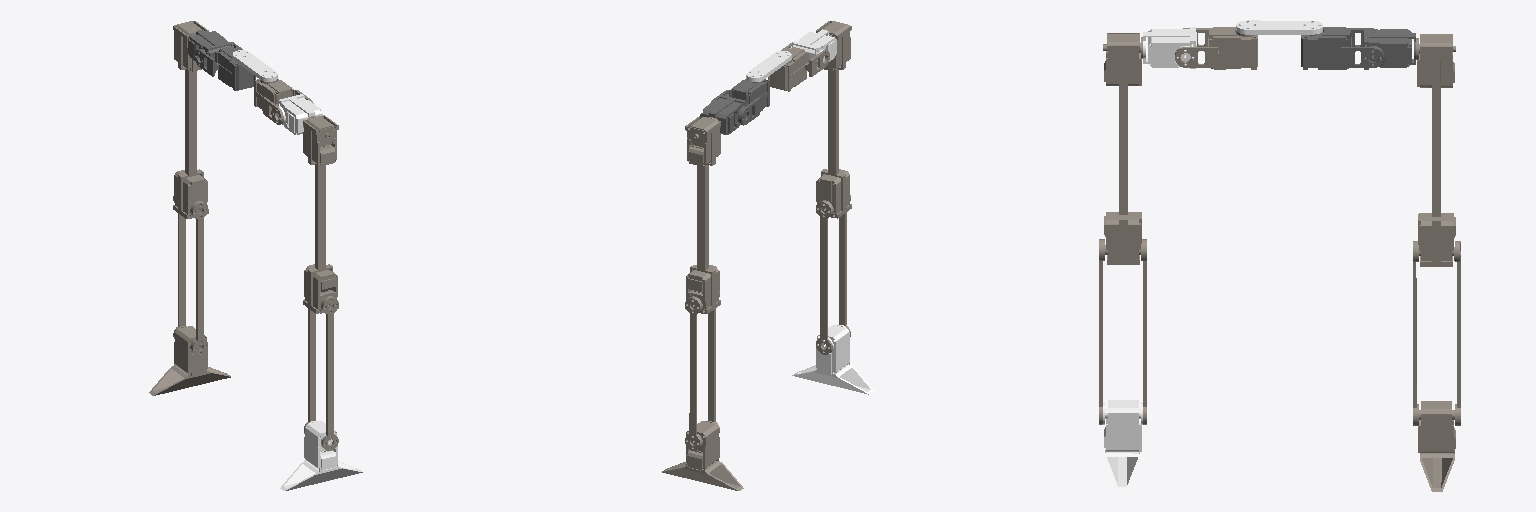
robot.urdf — Assem2:
<?xml version="1.0" encoding="utf-8"?>
<!-- This URDF was automatically created by SolidWorks to URDF Exporter! Originally created by Stephen Brawner (brawner@gmail.com) 
     Commit Version: 1.6.0-4-g7f85cfe  Build Version: 1.6.7995.38578
     For more information, please see http://wiki.ros.org/sw_urdf_exporter -->
<robot
  name="Assem2">
  <link
    name="base_link">
    <inertial>
      <origin
        xyz="8.6584E-05 -3.7645E-05 -0.0025"
        rpy="0 0 0" />
      <mass
        value="0.35" />
      <inertia
        ixx="4.2241E-06"
        ixy="-1.4747E-08"
        ixz="-7.7569E-24"
        iyy="3.0679E-07"
        iyz="-1.0937E-22"
        izz="4.4933E-06" />
    </inertial>
    <visual>
      <origin
        xyz="0 0 0"
        rpy="0 0 0" />
      <geometry>
        <mesh
          filename="package://Assem2/meshes/base_link.STL" />
      </geometry>
      <material
        name="">
        <color
          rgba="1 1 1 1" />
      </material>
    </visual>
    <collision>
      <origin
        xyz="0 0 0"
        rpy="0 0 0" />
      <geometry>
        <mesh
          filename="package://Assem2/meshes/base_link.STL" />
      </geometry>
    </collision>
  </link>
  <link
    name="hip_one_right">
    <inertial>
      <origin
        xyz="-5.4391E-05 -0.01443 0.016376"
        rpy="0 0 0" />
      <mass
        value="0.058249" />
      <inertia
        ixx="1.385E-05"
        ixy="-1.9707E-08"
        ixz="1.8376E-11"
        iyy="8.6168E-06"
        iyz="1.3144E-08"
        izz="1.436E-05" />
    </inertial>
    <visual>
      <origin
        xyz="0 0 0"
        rpy="0 0 0" />
      <geometry>
        <mesh
          filename="package://Assem2/meshes/hip_one_right.STL" />
      </geometry>
      <material
        name="">
        <color
          rgba="0.65098 0.61961 0.58824 1" />
      </material>
    </visual>
    <collision>
      <origin
        xyz="0 0 0"
        rpy="0 0 0" />
      <geometry>
        <mesh
          filename="package://Assem2/meshes/hip_one_right.STL" />
      </geometry>
    </collision>
  </link>
  <joint
    name="hip_one_right_joint"
    type="revolute">
    <origin
      xyz="-2.63517899616984E-05 -0.030037432836896 -0.0379"
      rpy="0 0 0" />
    <parent
      link="base_link" />
    <child
      link="hip_one_right" />
    <axis
      xyz="0 0 1" />
    <limit
      lower="-0.52"
      upper="0.52"
      effort="2.0"
      velocity="6.28" />
    <dynamics
      damping="0.1"
      friction="0.05" />
  </joint>
  <link
    name="hip_two_right">
    <inertial>
      <origin
        xyz="-0.010854 2.2524E-05 -0.0097718"
        rpy="0 0 0" />
      <mass
        value="0.060232" />
      <inertia
        ixx="6.8224E-06"
        ixy="4.4143E-12"
        ixz="1.4463E-08"
        iyy="1.261E-05"
        iyz="3.1105E-11"
        izz="1.1599E-05" />
    </inertial>
    <visual>
      <origin
        xyz="0 0 0"
        rpy="0 0 0" />
      <geometry>
        <mesh
          filename="package://Assem2/meshes/hip_two_right.STL" />
      </geometry>
      <material
        name="">
        <color
          rgba="1 1 1 1" />
      </material>
    </visual>
    <collision>
      <origin
        xyz="0 0 0"
        rpy="0 0 0" />
      <geometry>
        <mesh
          filename="package://Assem2/meshes/hip_two_right.STL" />
      </geometry>
    </collision>
  </link>
  <joint
    name="hip_two_right_joint"
    type="revolute">
    <origin
      xyz="0.0100279184909625 -0.0563554871982363 0.0145"
      rpy="1.5707963267949 0 1.56703177648003" />
    <parent
      link="hip_one_right" />
    <child
      link="hip_two_right" />
    <axis
      xyz="0 0 -1" />
    <limit
      lower="-1.57"
      upper="1.57"
      effort="2.0"
      velocity="6.28" />
    <dynamics
      damping="0.1"
      friction="0.05" />
  </joint>
  <link
    name="hip_leg_right">
    <inertial>
      <origin
        xyz="0.00042769 0.097419 0.015564"
        rpy="0 0 0" />
      <mass
        value="0.11566" />
      <inertia
        ixx="8.6744E-05"
        ixy="-8.8285E-12"
        ixz="3.7058E-21"
        iyy="1.3314E-05"
        iyz="-8.0774E-21"
        izz="8.4348E-05" />
    </inertial>
    <visual>
      <origin
        xyz="0 0 0"
        rpy="0 0 0" />
      <geometry>
        <mesh
          filename="package://Assem2/meshes/hip_leg_right.STL" />
      </geometry>
      <material
        name="">
        <color
          rgba="0.65098 0.61961 0.58824 1" />
      </material>
    </visual>
    <collision>
      <origin
        xyz="0 0 0"
        rpy="0 0 0" />
      <geometry>
        <mesh
          filename="package://Assem2/meshes/hip_leg_right.STL" />
      </geometry>
    </collision>
  </link>
  <joint
    name="hip_leg_right_joint"
    type="revolute">
    <origin
      xyz="-0.0719000000000001 0.000449999999972452 -0.00969999999999992"
      rpy="-2.54430062595969 -1.57079631189374 -0.597101845005674" />
    <parent
      link="hip_two_right" />
    <child
      link="hip_leg_right" />
    <axis
      xyz="0 0 1" />
    <limit
      lower="-2.26"
      upper="2.26"
      effort="2.0"
      velocity="6.28" />
    <dynamics
      damping="0.1"
      friction="0.05" />
  </joint>
  <link
    name="knee_leg_right">
    <inertial>
      <origin
        xyz="-6.3708E-16 -0.042833 0.01415"
        rpy="0 0 0" />
      <mass
        value="0.023696" />
      <inertia
        ixx="4.0175E-05"
        ixy="-4.4801E-20"
        ixz="-9.2644E-23"
        iyy="4.5779E-07"
        iyz="-5.3725E-21"
        izz="4.0592E-05" />
    </inertial>
    <visual>
      <origin
        xyz="0 0 0"
        rpy="0 0 0" />
      <geometry>
        <mesh
          filename="package://Assem2/meshes/knee_leg_right.STL" />
      </geometry>
      <material
        name="">
        <color
          rgba="0.65098 0.61961 0.58824 1" />
      </material>
    </visual>
    <collision>
      <origin
        xyz="0 0 0"
        rpy="0 0 0" />
      <geometry>
        <mesh
          filename="package://Assem2/meshes/knee_leg_right.STL" />
      </geometry>
    </collision>
  </link>
  <joint
    name="knee_leg_right_joint"
    type="revolute">
    <origin
      xyz="0.000900000000000167 0.205 0"
      rpy="0 0 3.14159265358979" />
    <parent
      link="hip_leg_right" />
    <child
      link="knee_leg_right" />
    <axis
      xyz="0 0 1" />
    <limit
      lower="-2.26"
      upper="2.26"
      effort="2.0"
      velocity="6.28" />
    <dynamics
      damping="0.1"
      friction="0.05" />
  </joint>
  <link
    name="ankle_leg_right">
    <inertial>
      <origin
        xyz="6.3956E-05 0.016195 0.014485"
        rpy="0 0 0" />
      <mass
        value="0.068105" />
      <inertia
        ixx="1.2837E-05"
        ixy="-4.4143E-12"
        ixz="3.1105E-11"
        iyy="1.1689E-05"
        iyz="-1.4463E-08"
        izz="1.5279E-05" />
    </inertial>
    <visual>
      <origin
        xyz="0 0 0"
        rpy="0 0 0" />
      <geometry>
        <mesh
          filename="package://Assem2/meshes/ankle_leg_right.STL" />
      </geometry>
      <material
        name="">
        <color
          rgba="1 1 1 1" />
      </material>
    </visual>
    <collision>
      <origin
        xyz="0 0 0"
        rpy="0 0 0" />
      <geometry>
        <mesh
          filename="package://Assem2/meshes/ankle_leg_right.STL" />
      </geometry>
    </collision>
  </link>
  <joint
    name="ankle_leg_right_joint"
    type="revolute">
    <origin
      xyz="0 -0.166 0"
      rpy="0 0 -3.14159265358979" />
    <parent
      link="knee_leg_right" />
    <child
      link="ankle_leg_right" />
    <axis
      xyz="0 0 1" />
    <limit
      lower="-0.9"
      upper="1.2"
      effort="2.0"
      velocity="6.28" />
    <dynamics
      damping="0.1"
      friction="0.05" />
  </joint>
  <link
    name="hip_one_left">
    <inertial>
      <origin
        xyz="6.033E-05 0.016005 0.014731"
        rpy="0 0 0" />
      <mass
        value="0.052515" />
      <inertia
        ixx="1.3701E-05"
        ixy="-1.9707E-08"
        ixz="-1.8376E-11"
        iyy="8.4675E-06"
        iyz="-1.3144E-08"
        izz="1.4073E-05" />
    </inertial>
    <visual>
      <origin
        xyz="0 0 0"
        rpy="0 0 0" />
      <geometry>
        <mesh
          filename="package://Assem2/meshes/hip_one_left.STL" />
      </geometry>
      <material
        name="">
        <color
          rgba="0.49804 0.49804 0.49804 1" />
      </material>
    </visual>
    <collision>
      <origin
        xyz="0 0 0"
        rpy="0 0 0" />
      <geometry>
        <mesh
          filename="package://Assem2/meshes/hip_one_left.STL" />
      </geometry>
    </collision>
  </link>
  <joint
    name="hip_one_left_joint"
    type="revolute">
    <origin
      xyz="0.000199520695424395 0.0299621420084339 -0.0379"
      rpy="0 0 0" />
    <parent
      link="base_link" />
    <child
      link="hip_one_left" />
    <axis
      xyz="0 0 1" />
    <limit
      lower="-0.52"
      upper="0.52"
      effort="2.0"
      velocity="6.28" />
    <dynamics
      damping="0.1"
      friction="0.05" />
  </joint>
  <link
    name="hip_two_left">
    <inertial>
      <origin
        xyz="0.010854 -2.2524E-05 -0.0097917"
        rpy="0 0 0" />
      <mass
        value="0.060232" />
      <inertia
        ixx="6.8224E-06"
        ixy="4.4143E-12"
        ixz="-1.4463E-08"
        iyy="1.261E-05"
        iyz="-3.1105E-11"
        izz="1.1599E-05" />
    </inertial>
    <visual>
      <origin
        xyz="0 0 0"
        rpy="0 0 0" />
      <geometry>
        <mesh
          filename="package://Assem2/meshes/hip_two_left.STL" />
      </geometry>
      <material
        name="">
        <color
          rgba="0.49804 0.49804 0.49804 1" />
      </material>
    </visual>
    <collision>
      <origin
        xyz="0 0 0"
        rpy="0 0 0" />
      <geometry>
        <mesh
          filename="package://Assem2/meshes/hip_two_left.STL" />
      </geometry>
    </collision>
  </link>
  <joint
    name="hip_two_left_joint"
    type="revolute">
    <origin
      xyz="0.010472 0.056278 0.0145"
      rpy="1.5708 0 1.567" />
    <parent
      link="hip_one_left" />
    <child
      link="hip_two_left" />
    <axis
      xyz="0 0 -1" />
    <limit
      lower="-1.57"
      upper="1.57"
      effort="2.0"
      velocity="6.28" />
    <dynamics
      damping="0.1"
      friction="0.05" />
  </joint>
  <link
    name="hip_leg_left">
    <inertial>
      <origin
        xyz="0.00042769 -0.097419 0.015342"
        rpy="0 0 0" />
      <mass
        value="0.11566" />
      <inertia
        ixx="8.6744E-05"
        ixy="-8.8285E-12"
        ixz="3.2293E-21"
        iyy="1.3314E-05"
        iyz="2.1407E-20"
        izz="8.4348E-05" />
    </inertial>
    <visual>
      <origin
        xyz="0 0 0"
        rpy="0 0 0" />
      <geometry>
        <mesh
          filename="package://Assem2/meshes/hip_leg_left.STL" />
      </geometry>
      <material
        name="">
        <color
          rgba="0.65098 0.61961 0.58824 1" />
      </material>
    </visual>
    <collision>
      <origin
        xyz="0 0 0"
        rpy="0 0 0" />
      <geometry>
        <mesh
          filename="package://Assem2/meshes/hip_leg_left.STL" />
      </geometry>
    </collision>
  </link>
  <joint
    name="hip_leg_left_joint"
    type="revolute">
    <origin
      xyz="0.0719 -0.00045 -0.0101"
      rpy="1.5301 -1.5708 -1.5298" />
    <parent
      link="hip_two_left" />
    <child
      link="hip_leg_left" />
    <axis
      xyz="0 0 1" />
    <limit
      lower="-2.26"
      upper="2.26"
      effort="2.0"
      velocity="6.28" />
    <dynamics
      damping="0.1"
      friction="0.05" />
  </joint>
  <link
    name="knee_leg_left">
    <inertial>
      <origin
        xyz="-3.6126E-16 -0.042833 0.01415"
        rpy="0 0 0" />
      <mass
        value="0.023696" />
      <inertia
        ixx="4.0175E-05"
        ixy="-1.5145E-20"
        ixz="-5.8234E-22"
        iyy="4.5779E-07"
        iyz="-8.5198E-20"
        izz="4.0592E-05" />
    </inertial>
    <visual>
      <origin
        xyz="0 0 0"
        rpy="0 0 0" />
      <geometry>
        <mesh
          filename="package://Assem2/meshes/knee_leg_left.STL" />
      </geometry>
      <material
        name="">
        <color
          rgba="0.65098 0.61961 0.58824 1" />
      </material>
    </visual>
    <collision>
      <origin
        xyz="0 0 0"
        rpy="0 0 0" />
      <geometry>
        <mesh
          filename="package://Assem2/meshes/knee_leg_left.STL" />
      </geometry>
    </collision>
  </link>
  <joint
    name="knee_leg_left_joint"
    type="revolute">
    <origin
      xyz="0.00090000000000017 -0.205 -0.000399999999999873"
      rpy="0 0 0" />
    <parent
      link="hip_leg_left" />
    <child
      link="knee_leg_left" />
    <axis
      xyz="0 0 1" />
    <limit
      lower="-2.26"
      upper="2.26"
      effort="2.0"
      velocity="6.28" />
    <dynamics
      damping="0.1"
      friction="0.05" />
  </joint>
  <link
    name="ankle_leg_left">
    <inertial>
      <origin
        xyz="-6.3956E-05 -0.016195 0.014485"
        rpy="0 0 0" />
      <mass
        value="0.068105" />
      <inertia
        ixx="1.2837E-05"
        ixy="-4.4143E-12"
        ixz="-3.1105E-11"
        iyy="1.1689E-05"
        iyz="1.4463E-08"
        izz="1.5279E-05" />
    </inertial>
    <visual>
      <origin
        xyz="0 0 0"
        rpy="0 0 0" />
      <geometry>
        <mesh
          filename="package://Assem2/meshes/ankle_leg_left.STL" />
      </geometry>
      <material
        name="">
        <color
          rgba="0.65098 0.61961 0.58824 1" />
      </material>
    </visual>
    <collision>
      <origin
        xyz="0 0 0"
        rpy="0 0 0" />
      <geometry>
        <mesh
          filename="package://Assem2/meshes/ankle_leg_left.STL" />
      </geometry>
    </collision>
  </link>
  <joint
    name="ankle_leg_left_joint"
    type="revolute">
    <origin
      xyz="0 -0.166 0"
      rpy="0 0 0" />
    <parent
      link="knee_leg_left" />
    <child
      link="ankle_leg_left" />
    <axis
      xyz="0 0 1" />
    <limit
      lower="-0.9"
      upper="1.2"
      effort="2.0"
      velocity="6.28" />
    <dynamics
      damping="0.1"
      friction="0.05" />
  </joint>
</robot>

--- Facts derived from the render (not from the file) ---
The picture shows the robot from 3 angles, left to right: view 1: azimuth 30°, elevation 25°; view 2: azimuth 150°, elevation 25°; view 3: azimuth 270°, elevation 25°; orthographic projection.
Robot: Assem2 — 11 links, 10 joints (10 revolute); root link base_link; default pose: all joints at 0.
Links seen in each view (by area): view 1: hip_leg_right, hip_leg_left, knee_leg_left, knee_leg_right, ankle_leg_right, ankle_leg_left, hip_one_left, hip_one_right, hip_two_right, hip_two_left, base_link; view 2: hip_leg_left, hip_leg_right, knee_leg_right, ankle_leg_left, ankle_leg_right, knee_leg_left, hip_one_right, hip_one_left, hip_two_left, hip_two_right, base_link; view 3: hip_leg_left, hip_leg_right, ankle_leg_left, ankle_leg_right, hip_one_left, hip_one_right, hip_two_right, hip_two_left, knee_leg_right, knee_leg_left, base_link.
Link boxes in pixels (x1,y1,x2,y2): hip_leg_right: [303, 115, 338, 313]; hip_leg_left: [173, 21, 208, 218]; knee_leg_left: [173, 196, 208, 355]; knee_leg_right: [304, 292, 338, 450]; ankle_leg_right: [280, 421, 362, 490]; ankle_leg_left: [149, 326, 230, 395]; hip_one_left: [195, 42, 255, 90]; hip_one_right: [254, 79, 313, 124]; hip_two_right: [277, 94, 323, 134]; hip_two_left: [188, 30, 233, 60]; base_link: [233, 50, 277, 81]; hip_leg_left: [685, 116, 720, 313]; hip_leg_right: [816, 21, 851, 218]; knee_leg_right: [816, 195, 850, 354]; ankle_leg_left: [662, 421, 743, 490]; ankle_leg_right: [792, 325, 874, 394]; knee_leg_left: [685, 292, 719, 450]; hip_one_right: [768, 42, 829, 91]; hip_one_left: [710, 79, 769, 124]; hip_two_left: [700, 95, 746, 134]; hip_two_right: [790, 29, 836, 67]; base_link: [746, 51, 791, 81]; hip_leg_left: [1416, 34, 1455, 266]; hip_leg_right: [1103, 33, 1142, 264]; ankle_leg_left: [1416, 401, 1456, 491]; ankle_leg_right: [1103, 400, 1142, 490]; hip_one_left: [1301, 27, 1383, 69]; hip_one_right: [1175, 27, 1257, 69]; hip_two_right: [1143, 27, 1196, 68]; hip_two_left: [1363, 28, 1415, 69]; knee_leg_right: [1099, 239, 1146, 424]; knee_leg_left: [1413, 241, 1460, 425]; base_link: [1236, 20, 1322, 34].
Bounding box of the posed robot: 0.1001 × 0.3322 × 0.4494 m (x, y, z).
11 mesh visuals loaded from 11 distinct referenced files (11 binary STL).
